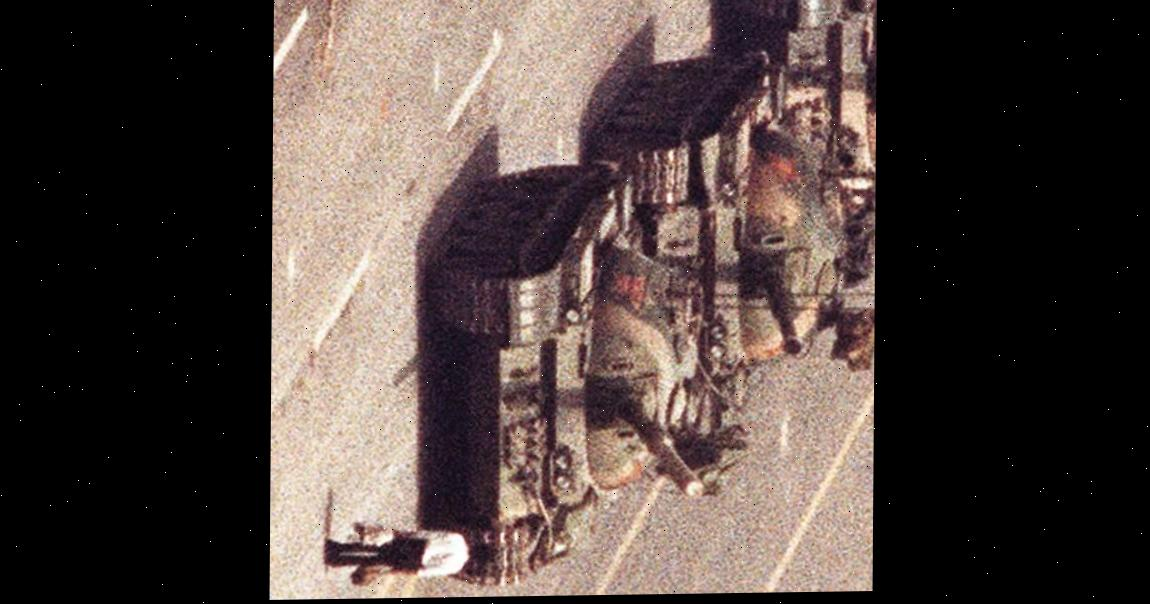tank: (421, 159, 707, 590), (582, 46, 852, 415), (714, 0, 877, 289)
